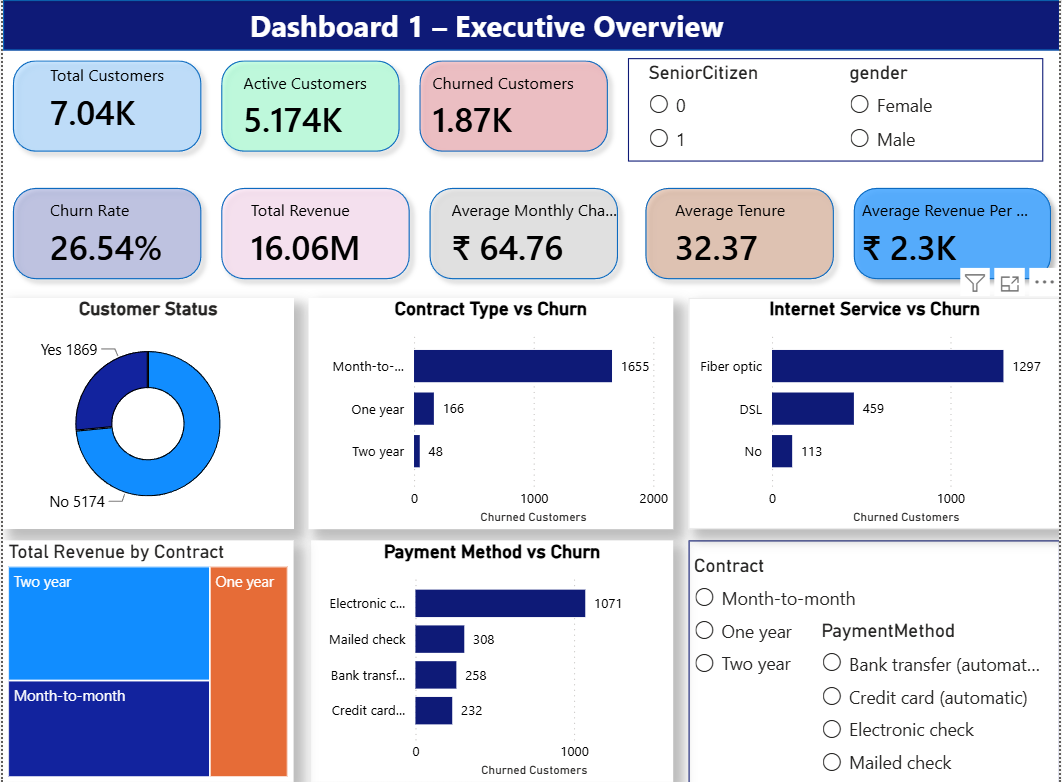

What the dashboard file says about the page in this screenshot:
{"tool":"powerbi","page":{"name":"Page 1","canvas":[960,720],"ordinal":0},"visuals":[{"type":"shape","box":[567.2,52.7,377,94],"z":0},{"type":"shape","box":[622.3,490.5,338.1,229.2],"z":1000},{"type":"shape","box":[189.1,161.6,189.1,100.8],"z":2000},{"type":"shape","box":[0,161.6,189.1,100.8],"z":3000},{"type":"shape","box":[369,45.8,189.1,100.8],"z":4000},{"type":"shape","box":[0,45.8,189.1,100.8],"z":5000},{"type":"cardVisual","fields":{"Data":["Measures_Dash_01.Total Customers"]},"box":[13.8,45.8,162.7,87.1],"z":6000},{"type":"cardVisual","fields":{"Data":["Measures_Dash_01.Churned Customers"]},"box":[361,52.7,191.4,87.1],"z":7000},{"type":"cardVisual","fields":{"Data":["Measures_Dash_01.Churn Rate"]},"box":[13.8,168.5,162.7,87.1],"z":8000},{"type":"shape","box":[189.1,45.8,179.9,100.8],"z":9000},{"type":"cardVisual","fields":{"Data":["Measures_Dash_01.Active Customers"]},"box":[189.1,52.7,175.3,87.1],"z":10000},{"type":"cardVisual","fields":{"Data":["Measures_Dash_01.Total Revenue"]},"box":[196,168.5,162.7,87.1],"z":11000},{"type":"shape","box":[763.2,161.6,197.1,100.8],"z":12000},{"type":"shape","box":[574.1,161.6,189.1,100.8],"z":13000},{"type":"shape","box":[378.2,161.6,189.1,100.8],"z":14000},{"type":"shape","box":[0,0,960.3,45.8],"z":15000},{"type":"listSlicer","fields":{"Values":["telecom_churn_clean.gender"]},"box":[763.2,56.2,107.7,90.5],"z":16000},{"type":"listSlicer","fields":{"Values":["telecom_churn_clean.Contract"]},"box":[622.3,503.1,175.3,120.3],"z":17000},{"type":"listSlicer","fields":{"Values":["telecom_churn_clean.SeniorCitizen"]},"box":[581,56.2,162.7,90.5],"z":18000},{"type":"cardVisual","fields":{"Data":["Measures_Dash_01.Average Monthly Charges"]},"box":[378.2,168.5,210.9,87.1],"z":19000},{"type":"cardVisual","fields":{"Data":["Measures_Dash_01.Average Tenure"]},"box":[581,168.5,169.6,87.1],"z":20000},{"type":"cardVisual","fields":{"Data":["Measures_Dash_01.Average Revenue Per Customer"]},"box":[750.6,168.5,209.7,87.1],"z":21000},{"type":"textbox","box":[218.9,0,710.5,45.8],"z":22000},{"type":"donutChart","title":"Customer Status","fields":{"Category":["telecom_churn_clean.Churn"],"Y":["CountNonNull(telecom_churn_clean.customerID)"]},"box":[0,270.4,263.6,209.7],"z":23000},{"type":"clusteredBarChart","title":"Contract Type vs Churn","fields":{"Category":["telecom_churn_clean.Contract"],"Y":["Measures_Dash_01.Churned Customers"]},"box":[277.3,270.4,331.2,209.7],"z":24000},{"type":"clusteredBarChart","title":"Internet Service vs Churn","fields":{"Y":["Measures_Dash_01.Churned Customers"],"Category":["telecom_churn_clean.InternetService"]},"box":[622.3,270.4,338.1,209.7],"z":25000},{"type":"clusteredBarChart","title":"Payment Method vs Churn","fields":{"Y":["Measures_Dash_01.Churned Customers"],"Category":["telecom_churn_clean.PaymentMethod"]},"box":[279.6,490.5,328.9,220],"z":26000},{"type":"treemap","fields":{"Values":["Measures_Dash_01.Total Revenue"],"Group":["telecom_churn_clean.Contract"]},"box":[0,490.5,263.6,220],"z":27000},{"type":"listSlicer","fields":{"Values":["telecom_churn_clean.PaymentMethod"]},"box":[738,562.7,222.3,157],"z":28000}]}

Visuals, with their boxes in screenshot pixels (x1, y1, x2, y2), scaled from the page's 960x720 canvas onto the 1062x782 screenshot:
shape: box(627, 57, 1045, 159)
shape: box(688, 533, 1061, 781)
shape: box(209, 176, 418, 285)
shape: box(0, 176, 209, 285)
shape: box(408, 50, 617, 159)
shape: box(0, 50, 209, 159)
cardVisual - Measures_Dash_01.Total Customers: box(15, 50, 195, 144)
cardVisual - Measures_Dash_01.Churned Customers: box(399, 57, 611, 152)
cardVisual - Measures_Dash_01.Churn Rate: box(15, 183, 195, 278)
shape: box(209, 50, 408, 159)
cardVisual - Measures_Dash_01.Active Customers: box(209, 57, 403, 152)
cardVisual - Measures_Dash_01.Total Revenue: box(217, 183, 397, 278)
shape: box(844, 176, 1061, 285)
shape: box(635, 176, 844, 285)
shape: box(418, 176, 628, 285)
shape: box(0, 0, 1061, 50)
listSlicer - telecom_churn_clean.gender: box(844, 61, 963, 159)
listSlicer - telecom_churn_clean.Contract: box(688, 546, 882, 677)
listSlicer - telecom_churn_clean.SeniorCitizen: box(643, 61, 823, 159)
cardVisual - Measures_Dash_01.Average Monthly Charges: box(418, 183, 652, 278)
cardVisual - Measures_Dash_01.Average Tenure: box(643, 183, 830, 278)
cardVisual - Measures_Dash_01.Average Revenue Per Customer: box(830, 183, 1061, 278)
textbox: box(242, 0, 1028, 50)
"Customer Status" donutChart: box(0, 294, 292, 521)
"Contract Type vs Churn" clusteredBarChart: box(307, 294, 673, 521)
"Internet Service vs Churn" clusteredBarChart: box(688, 294, 1061, 521)
"Payment Method vs Churn" clusteredBarChart: box(309, 533, 673, 772)
treemap - Measures_Dash_01.Total Revenue x telecom_churn_clean.Contract: box(0, 533, 292, 772)
listSlicer - telecom_churn_clean.PaymentMethod: box(816, 611, 1061, 781)
